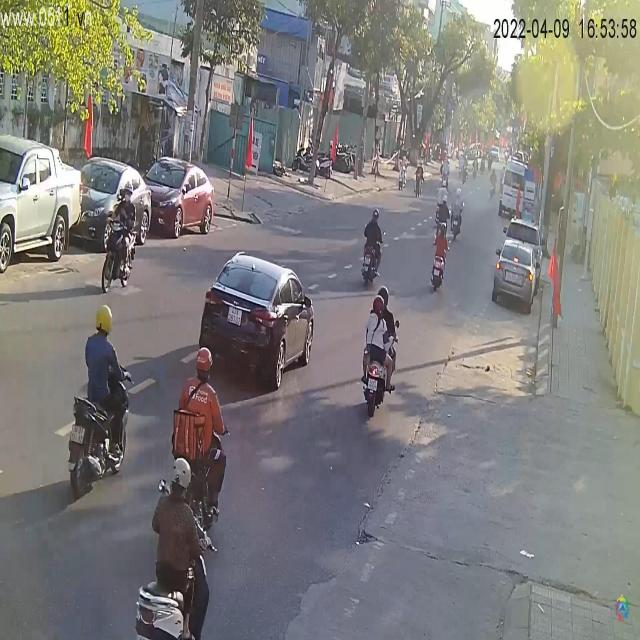car: (198, 254, 316, 401), (1, 135, 83, 275), (79, 158, 153, 259), (142, 157, 217, 241), (492, 227, 544, 316), (498, 158, 538, 222)
motorcycle: (64, 360, 133, 506), (360, 326, 399, 419), (98, 208, 138, 296), (359, 221, 386, 288), (427, 242, 449, 289)
